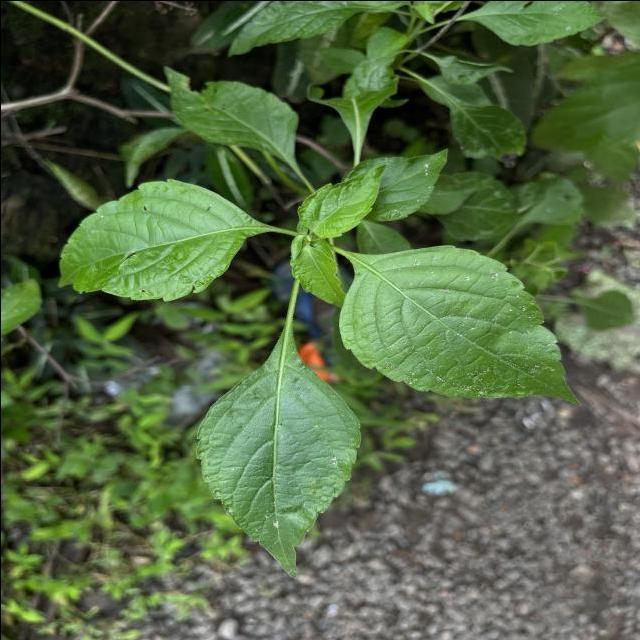Ocimum gratissimum: (191, 306, 364, 584), (336, 241, 584, 407), (49, 174, 288, 304), (294, 158, 389, 240)
